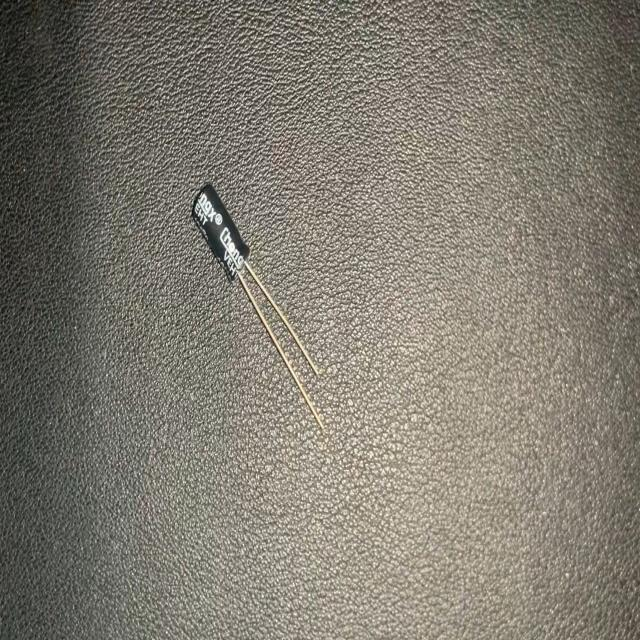capacitor: (188, 183, 326, 433)
